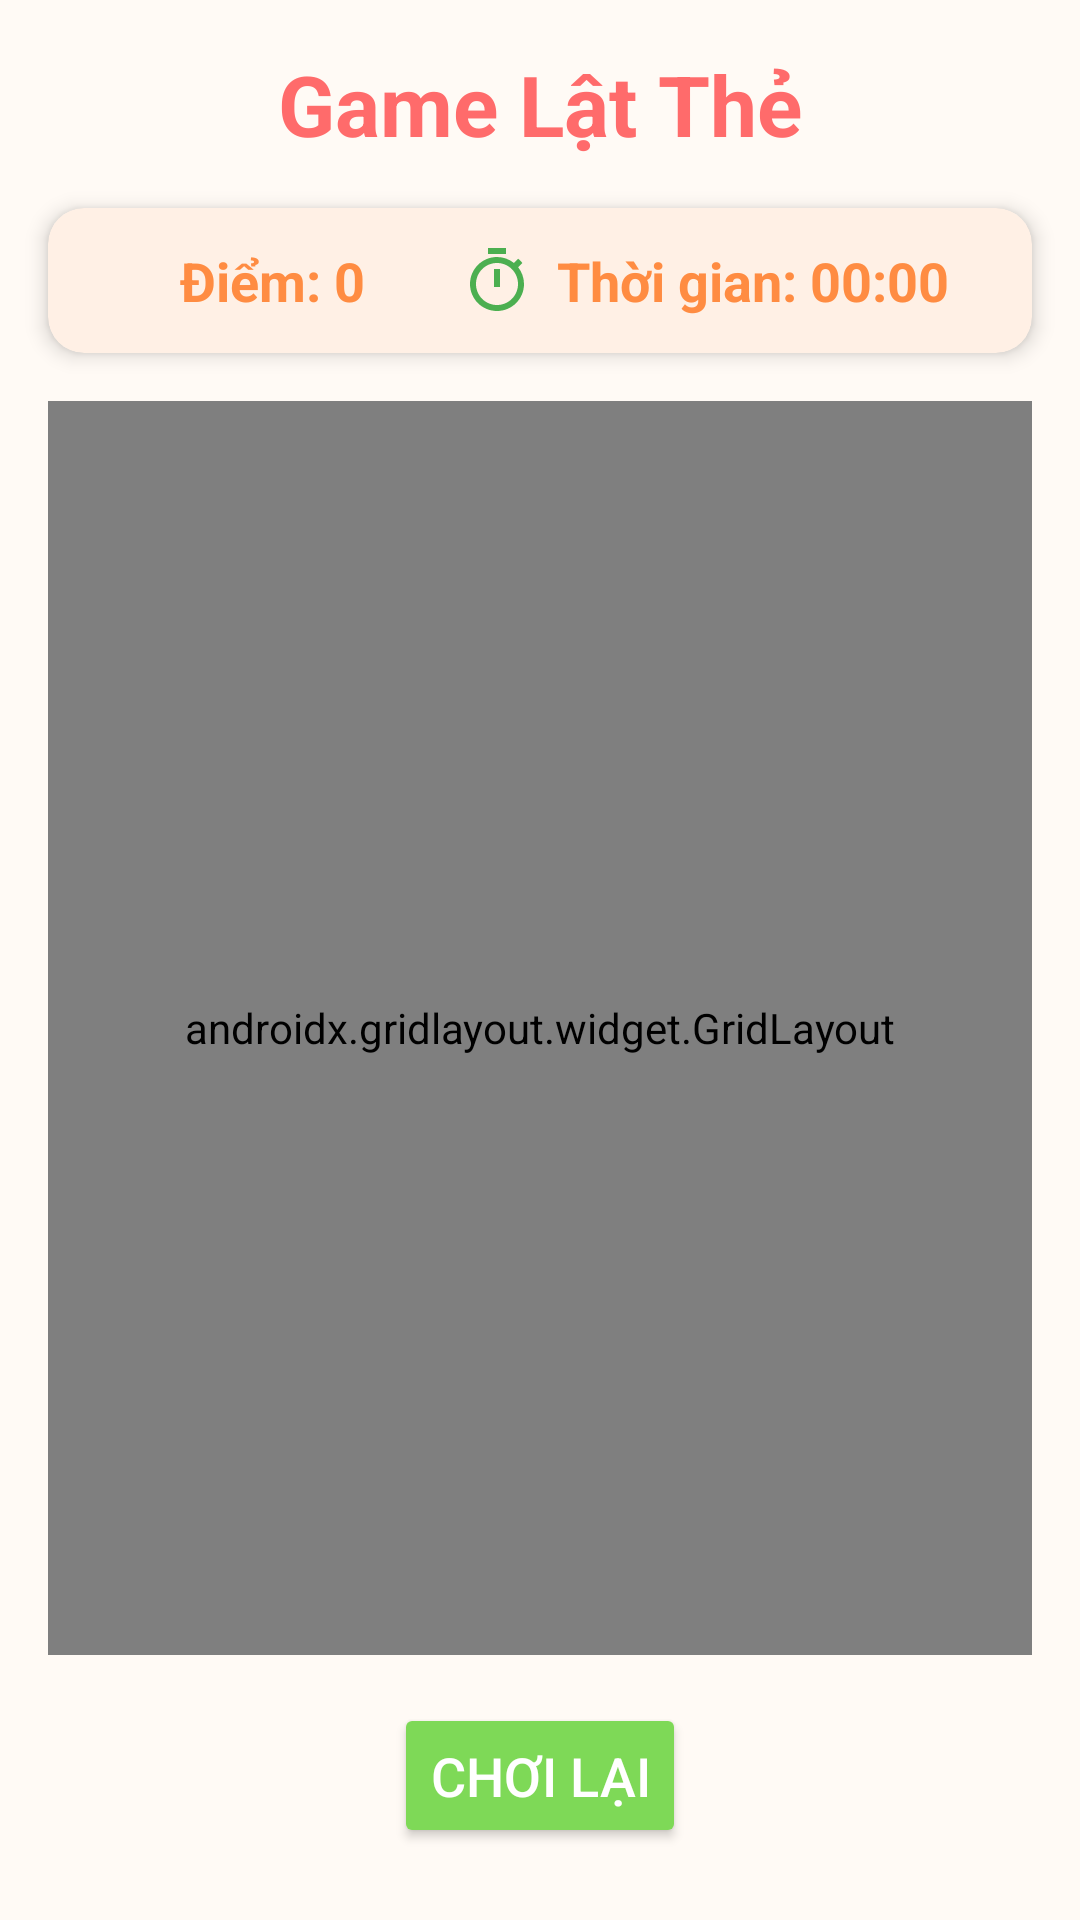

Icons on this 1080 x 1920 Android screen, each with its box as (x1, y1, x2, y2):
timer: (470, 248, 524, 311)
